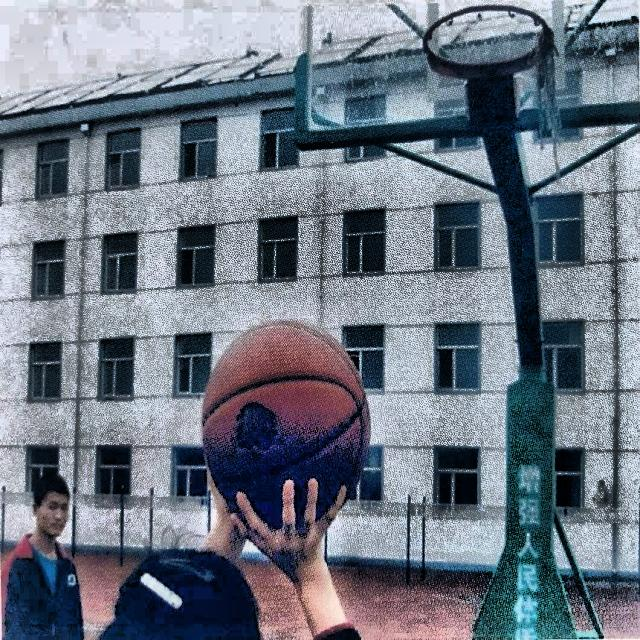board: (202, 320, 372, 536)
